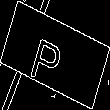P_N: (35, 25, 75, 85)
